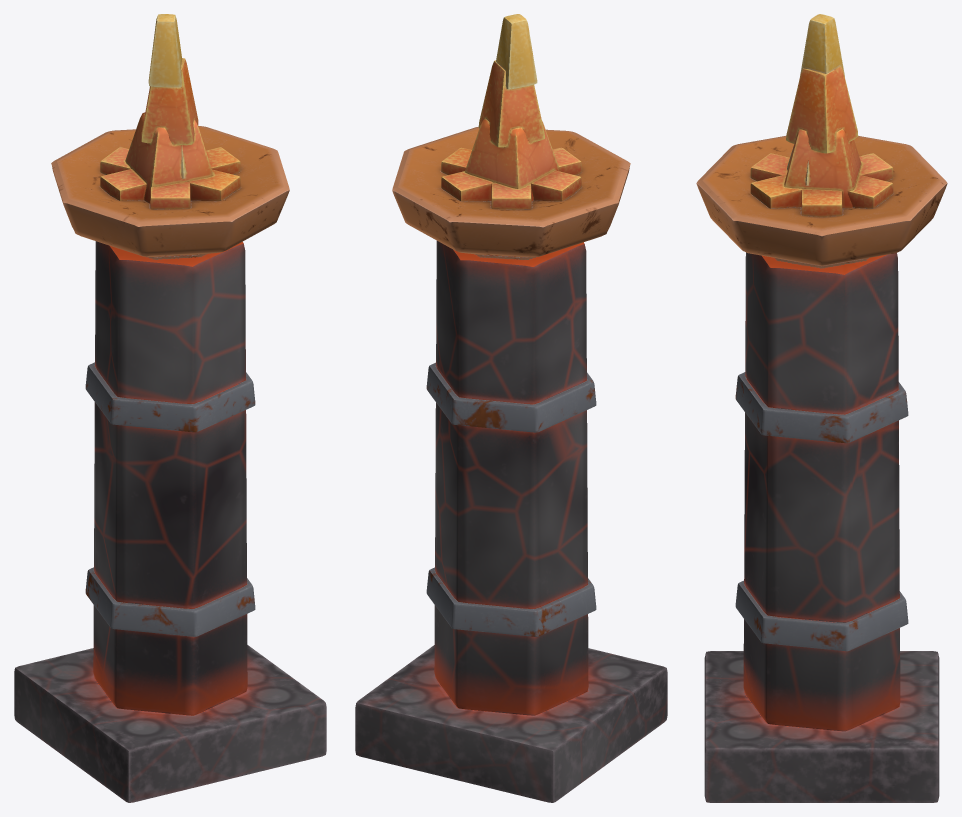
Rendered from Volcan_PilierBrasier.fbx.
3 renders of one model, left to right at view 1: azimuth 30°, elevation 25°; view 2: azimuth 150°, elevation 25°; view 3: azimuth 270°, elevation 25°, orthographic.
Visible parts, largest first — view 1: Volcan_PilierBrasier; view 2: Volcan_PilierBrasier; view 3: Volcan_PilierBrasier.
Part boxes in pixels (box(x1,y1,x2,y2)): Volcan_PilierBrasier: box(14, 14, 326, 802); Volcan_PilierBrasier: box(355, 14, 667, 802); Volcan_PilierBrasier: box(696, 14, 947, 802).
Size of the model in its own units: 493 by 1590 by 493.
Materials: 1 (1 with a texture image).
